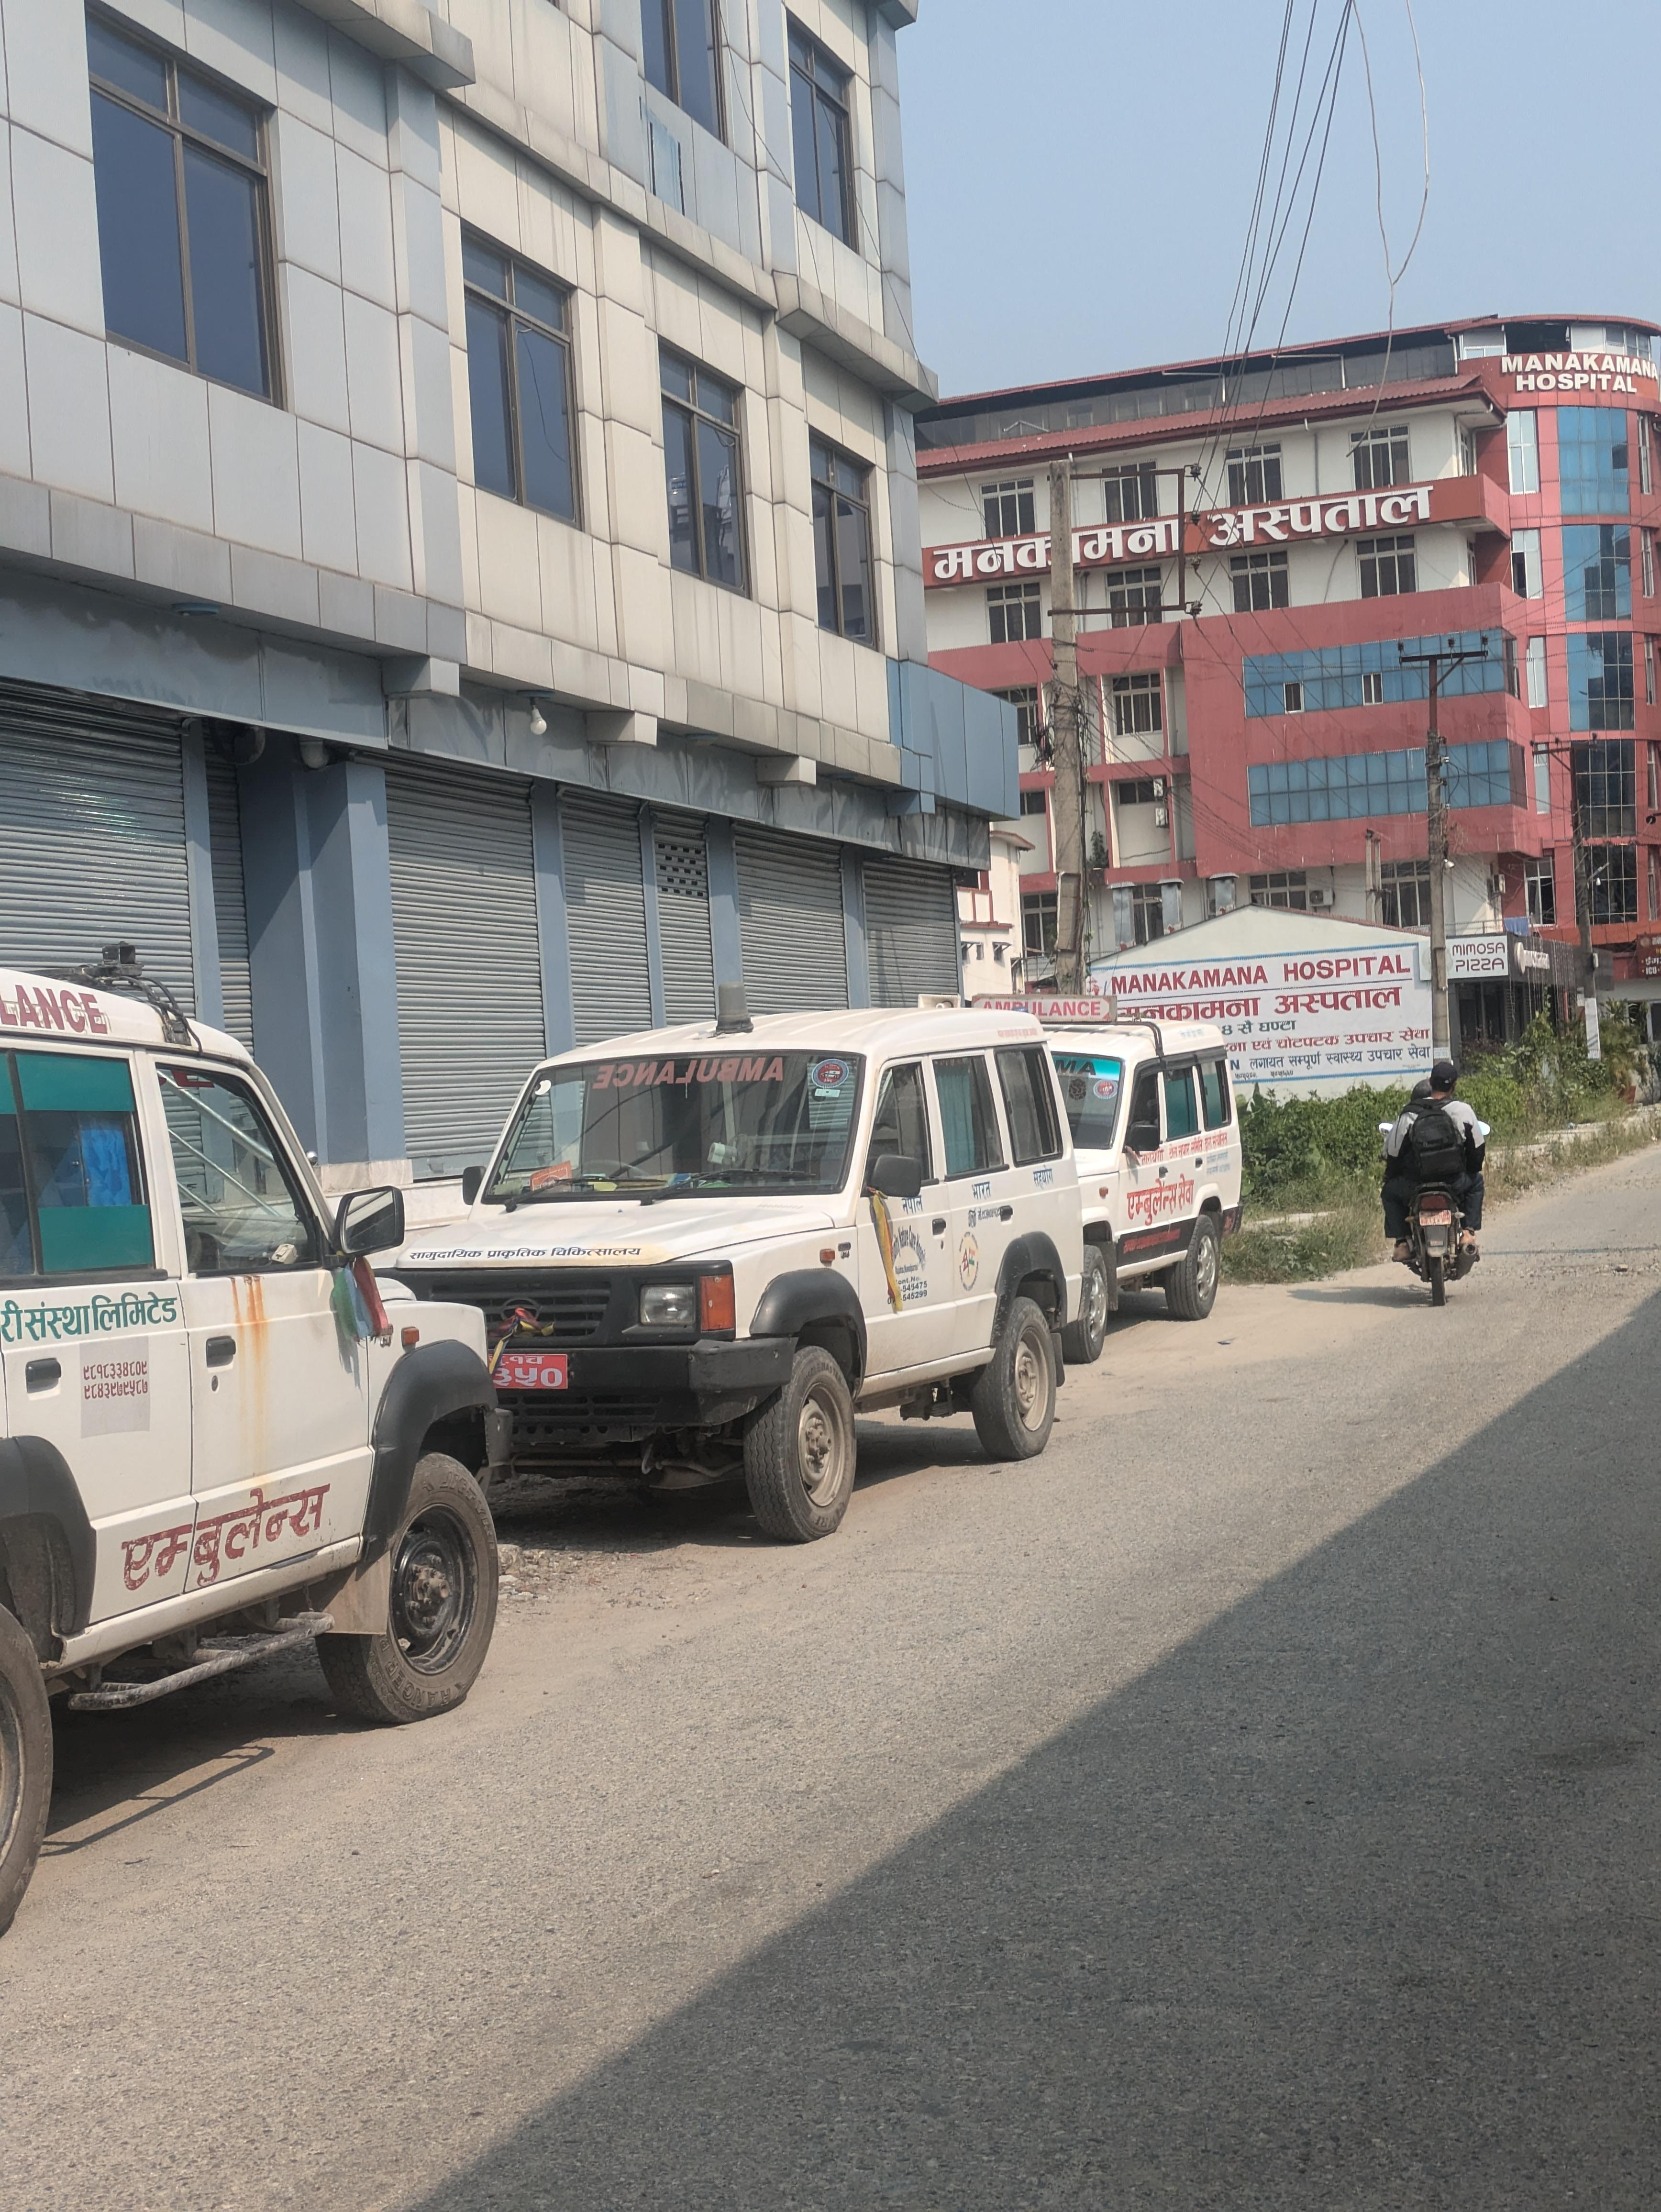ambulance: (0, 919, 511, 1954), (356, 973, 1101, 1560), (1005, 994, 1268, 1340)
bike: (1359, 1101, 1492, 1321)
